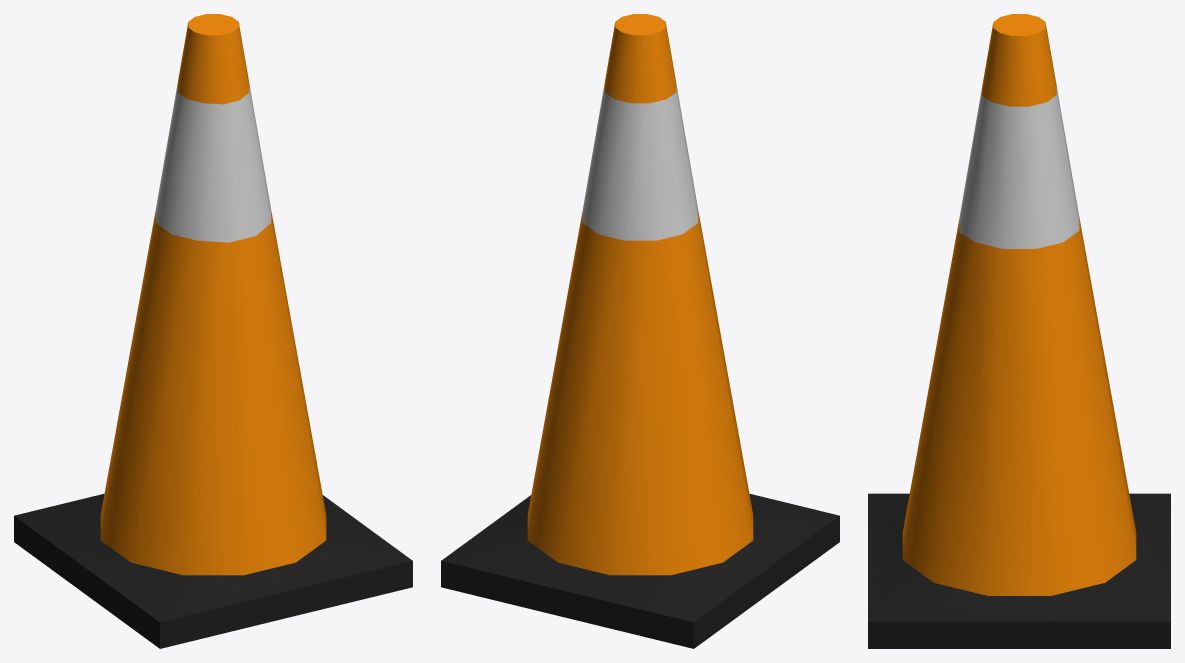
Rendered from Pylon Cone Large.fbx.
The picture shows the model from 3 angles, left to right: view 1: azimuth 30°, elevation 25°; view 2: azimuth 150°, elevation 25°; view 3: azimuth 270°, elevation 25°; orthographic projection. The views are drawn at different scales.
Parts seen in each view (by area): view 1: _(Loose Entity); view 2: _(Loose Entity); view 3: _(Loose Entity).
Part boxes in pixels (left/top/right/bottom): _(Loose Entity): left=14, top=14, right=412, bottom=648; _(Loose Entity): left=441, top=14, right=839, bottom=648; _(Loose Entity): left=868, top=14, right=1170, bottom=648.
Size of the model in its own units: 62.5 by 128 by 62.5.
